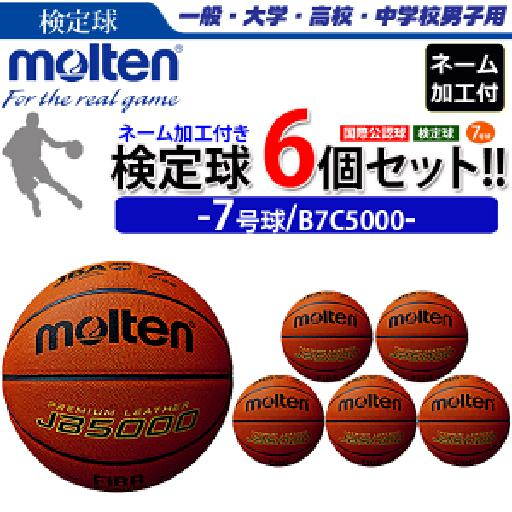ball: (3, 261, 232, 493)
